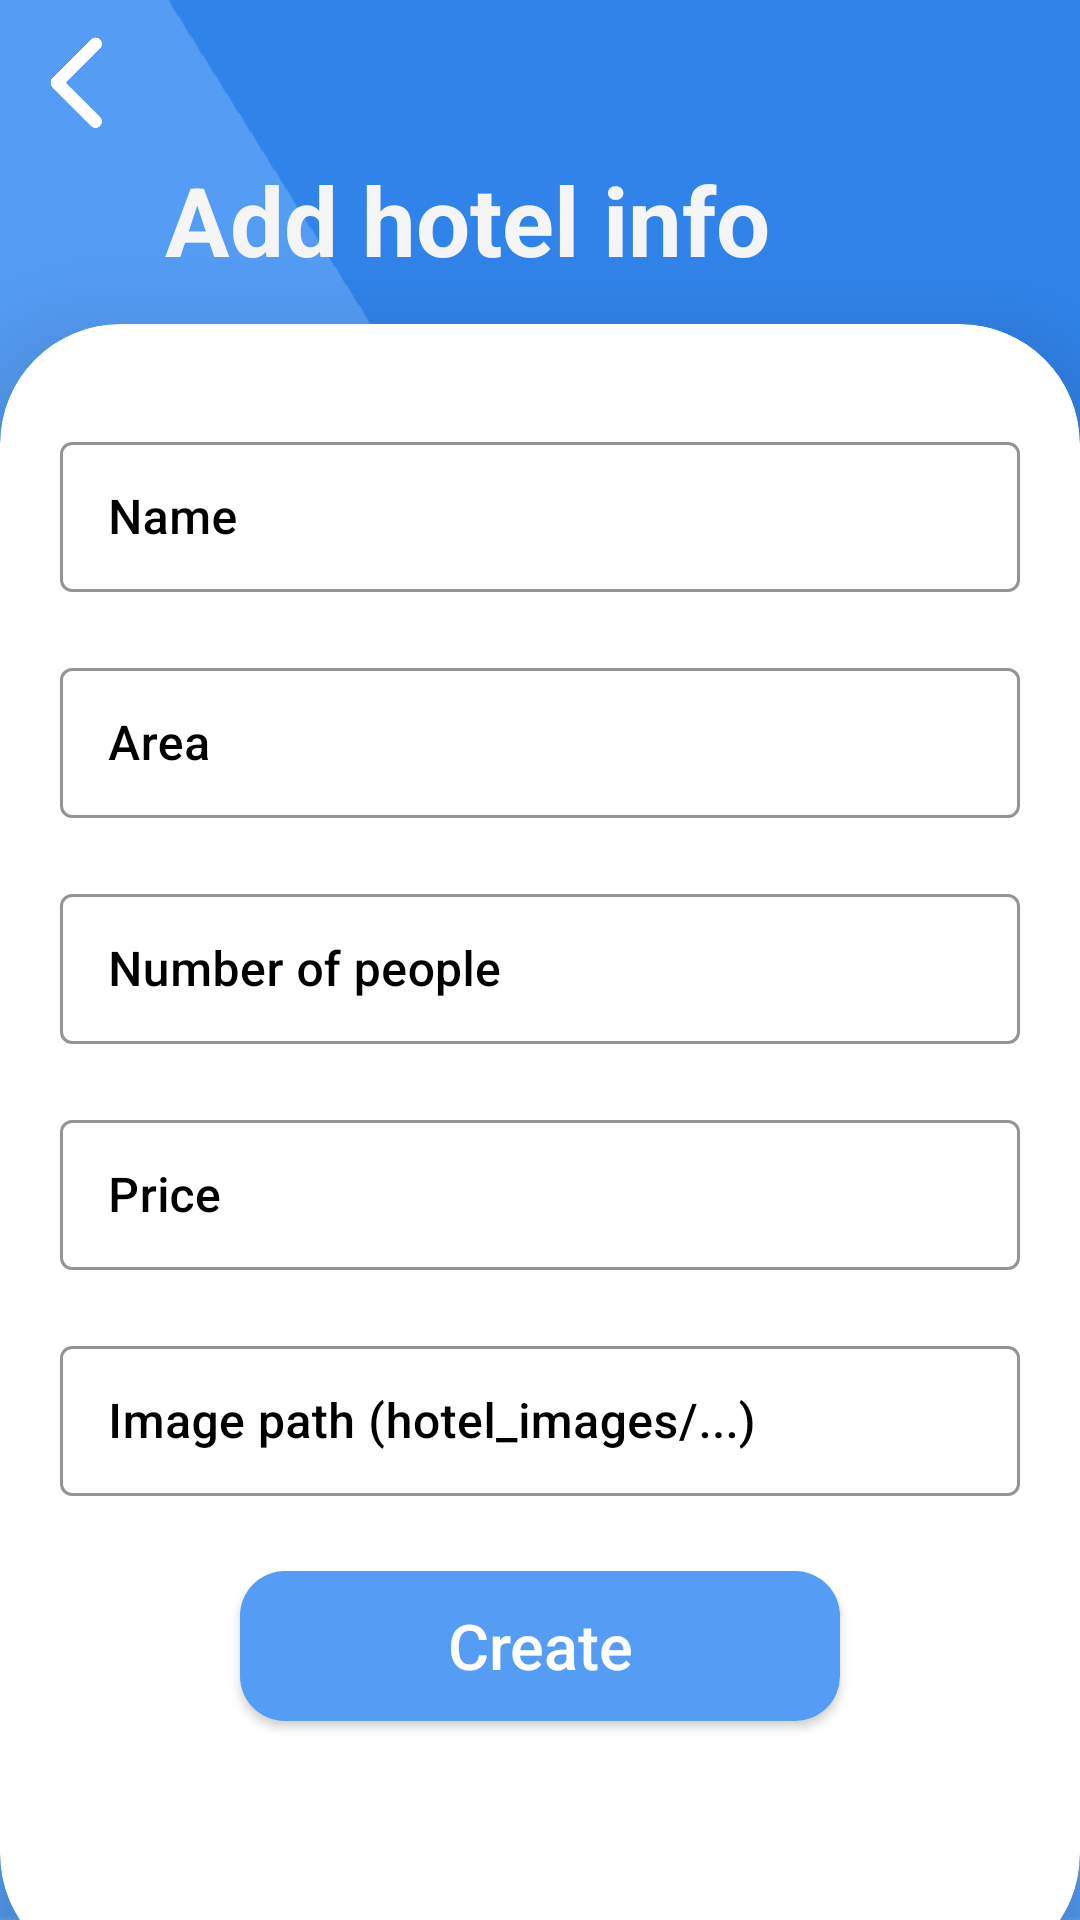

Point at icon controls on the screen. Image size 1080*1920, points as (x=x, y=y).
back: (x=76, y=82)
